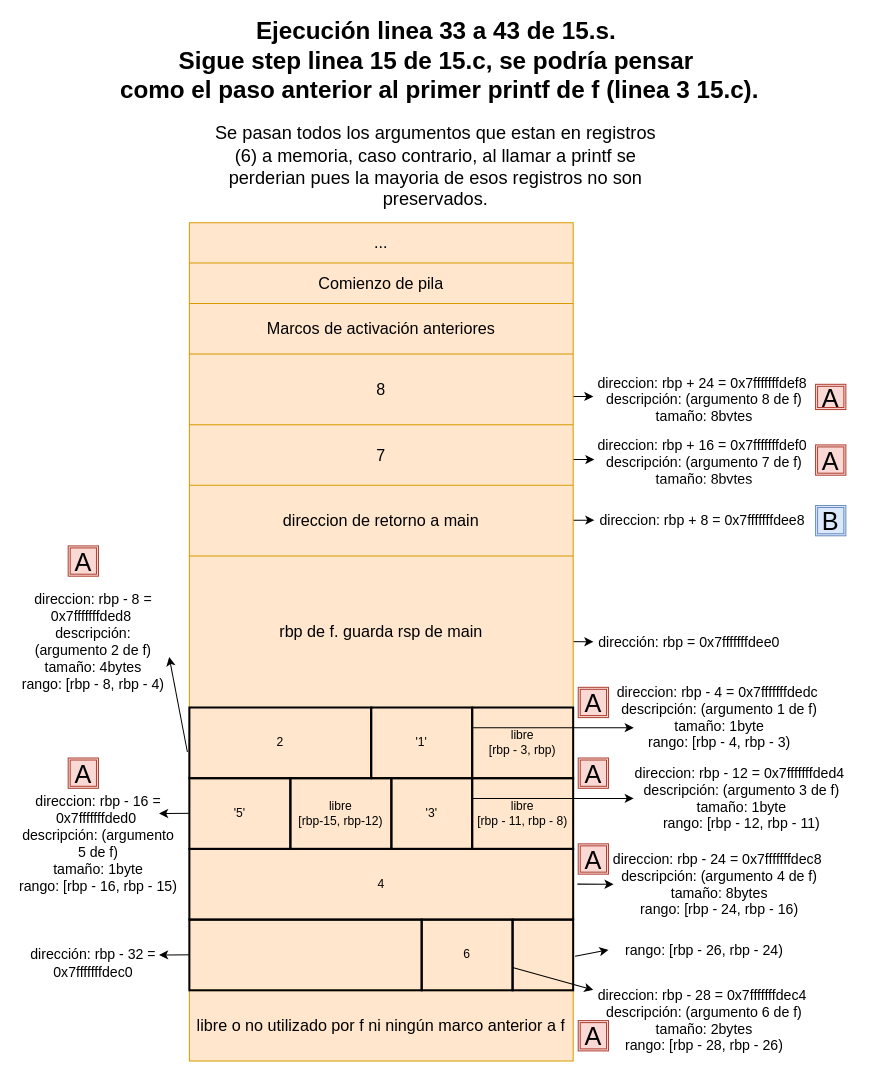
The diagram is 870 pixels wide and 1079 high, and some of its shapes have lost their labels. Here are the shapes that lost their labels. From the top down, the box of each, then its label:
(188, 918, 422, 991): rsp de f
(511, 918, 574, 991): libre
